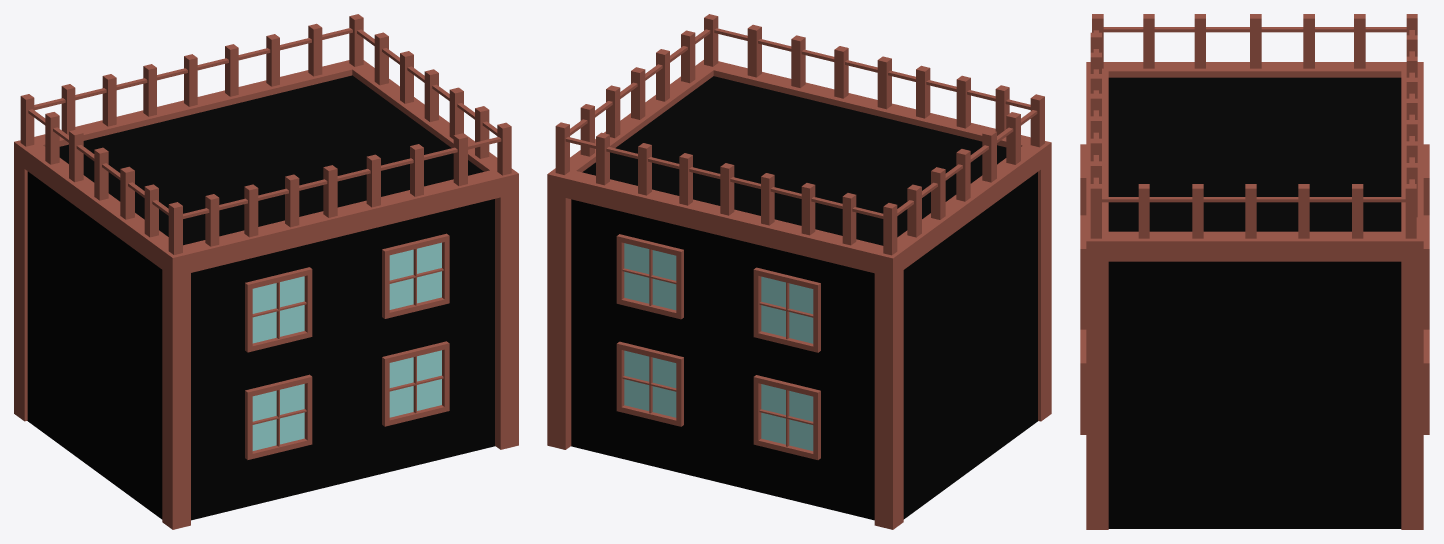
Rendered from oldHouse5.fbx.
The picture shows the model from 3 angles, left to right: view 1: azimuth 30°, elevation 25°; view 2: azimuth 150°, elevation 25°; view 3: azimuth 270°, elevation 25°; orthographic projection. The views are drawn at different scales.
Parts seen in each view (by area): view 1: Wohnhaus5.010, Cube.022, Cube.023, Plane.047, Plane.048; view 2: Wohnhaus5.010, Cube.022, Cube.023, Plane.047, Plane.048; view 3: Wohnhaus5.010, Cube.022, Cube.023, Plane.047, Plane.048.
Boxes of the visible parts, x1,y1,x2,y2 form: Wohnhaus5.010: (27,75,495,520); Cube.022: (14,60,518,529); Cube.023: (20,14,511,254); Plane.047: (245,233,449,352); Plane.048: (245,341,449,459); Wohnhaus5.010: (571,76,1037,520); Cube.022: (547,60,1051,529); Cube.023: (555,14,1044,255); Plane.047: (616,234,820,352); Plane.048: (616,341,820,459); Wohnhaus5.010: (1108,77,1401,528); Cube.022: (1086,62,1423,529); Cube.023: (1090,14,1417,238); Plane.047: (1080,144,1429,320); Plane.048: (1080,320,1429,434).
Bounding box in the file's own units: 8.15 × 7.19 × 6.7.
